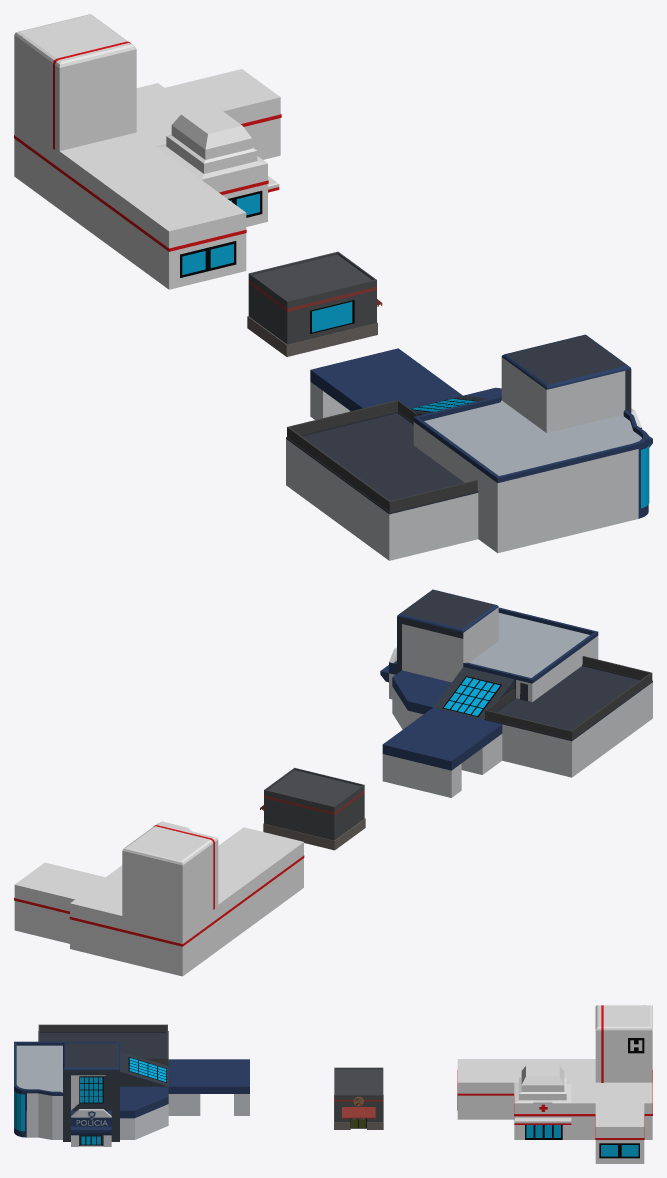
Rendered from Edificios.fbx.
3 views of the same model, one above another, from view 1: azimuth 30°, elevation 25°; view 2: azimuth 150°, elevation 25°; view 3: azimuth 270°, elevation 25° (orthographic). The views are drawn at different scales.
Parts seen in each view (by area): view 1: Comisaria, Hospital, Cube; view 2: Comisaria, Hospital, Cube; view 3: Comisaria, Hospital, Cube.
Boxes of the visible parts, box(x1,y1,x2,y2) form: Comisaria: box(286, 334, 652, 560); Hospital: box(14, 14, 281, 289); Cube: box(247, 251, 382, 356); Comisaria: box(380, 589, 652, 797); Hospital: box(14, 821, 304, 976); Cube: box(260, 767, 365, 850); Comisaria: box(14, 1024, 249, 1146); Hospital: box(457, 1005, 652, 1163); Cube: box(334, 1067, 383, 1129).
Bounding box in the file's own units: 2983 × 1245 × 7837.
